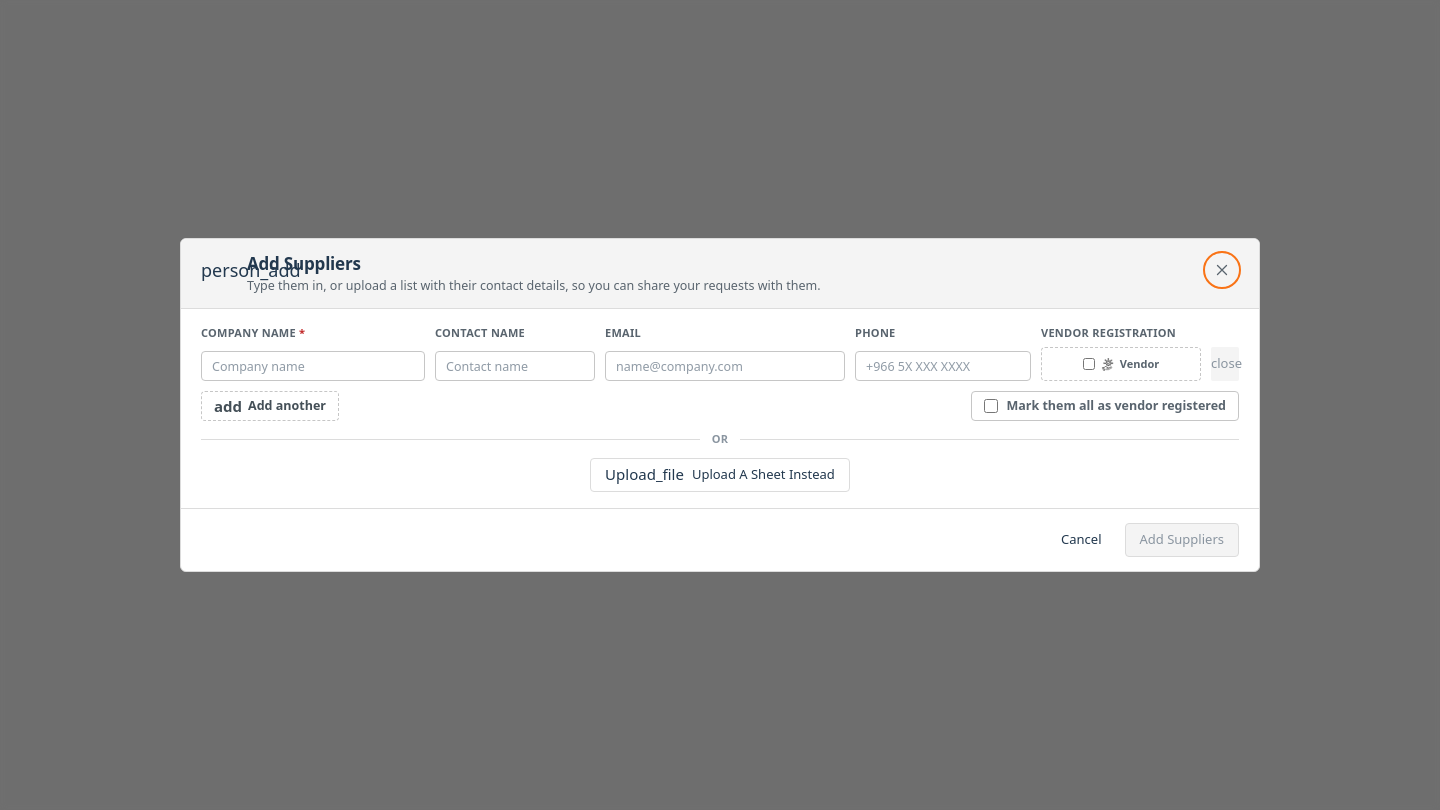
Test: a refused add names the refusal › Given the backend's 404, Then its own sentence is on screen, not «try again»
This screenshot has width=1440, height=810.
Type "Al-Faisal Contracting Est." into the field with placeholder "Company name". click: (313, 366)
box: [201,351,425,381]
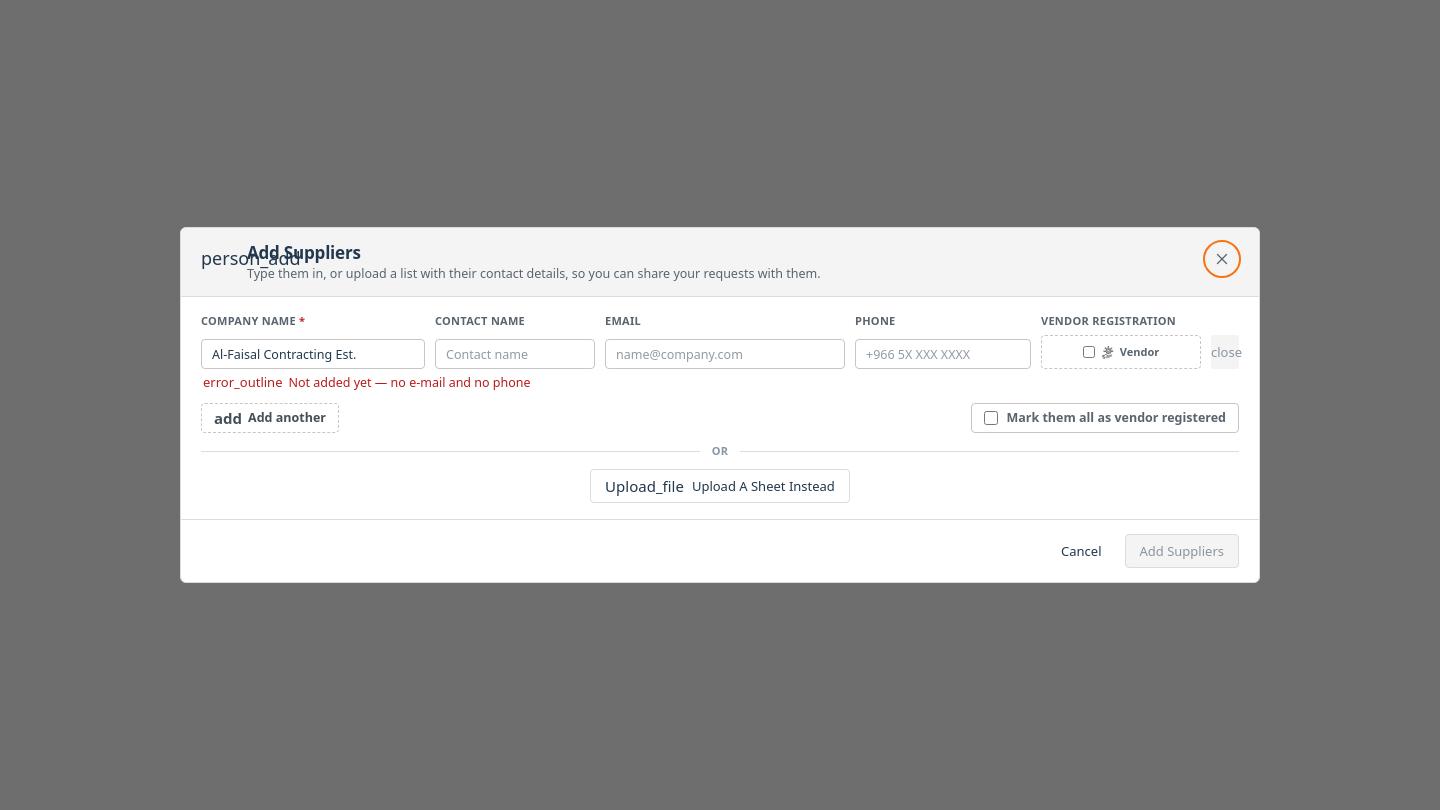
Type "0535869745" into the field with placeholder "+966 5X XXX XXXX". click: (943, 354)
box: [855,340,1031,370]
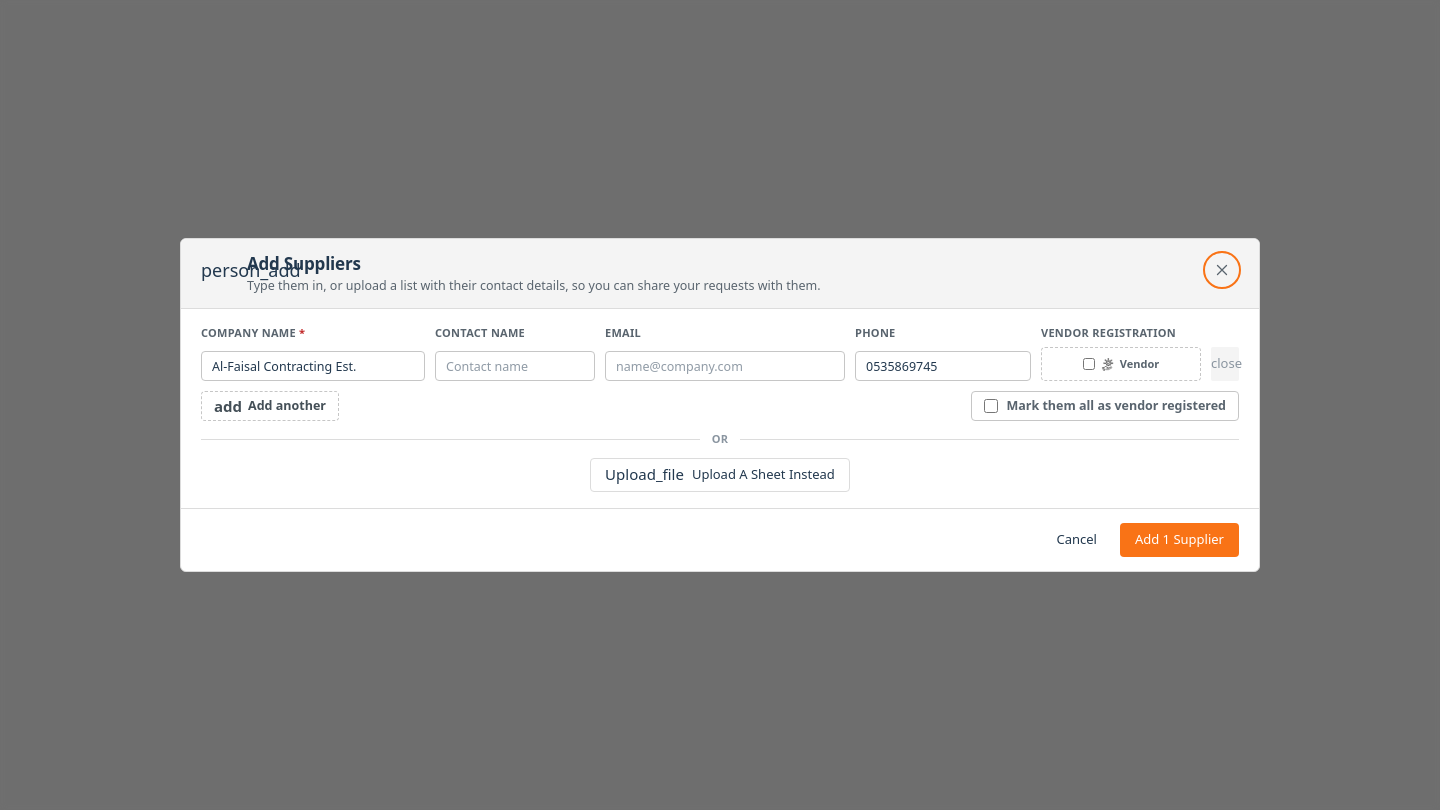
Click the button "Add 1 supplier". click: (1179, 540)
box: [1120,523,1239,557]
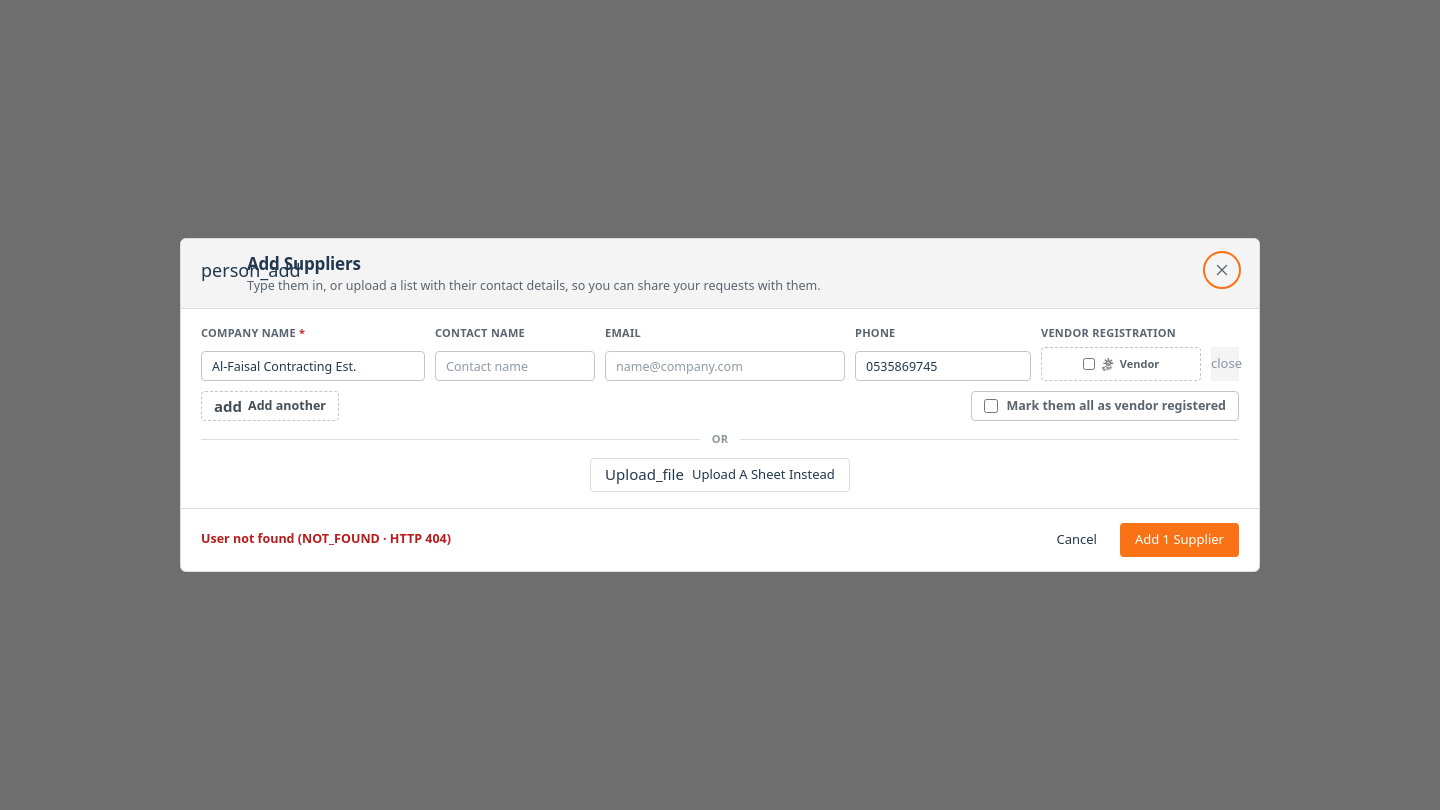
Expected: the text "User not found (NOT_FOUND · HTTP 404)" is shown, [201,530,451,549]
